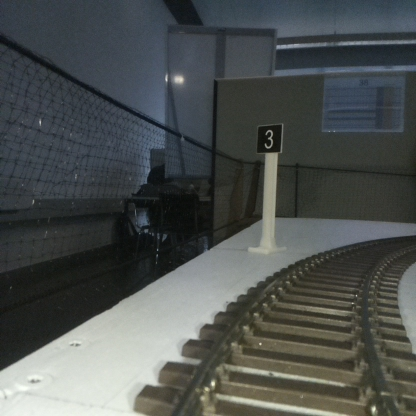black-info-3: (257, 124, 281, 252)
